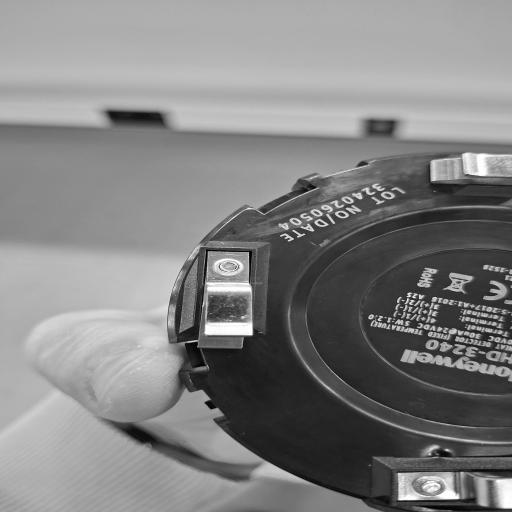yayli: (198, 245, 266, 358)
